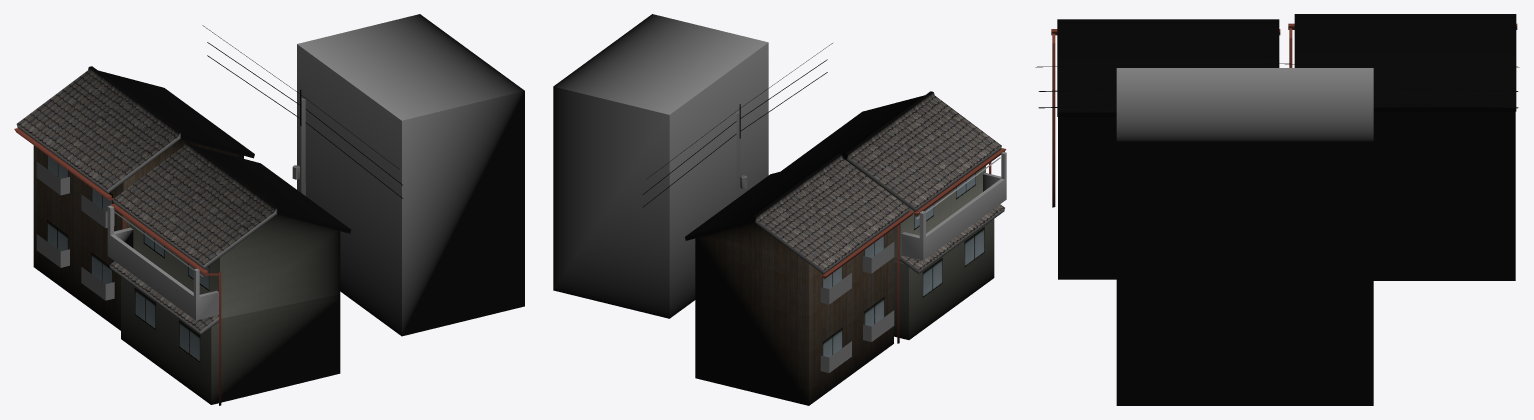
The model's file is AMB_HOUSE01_50.glb.
3 renders of one model, left to right at view 1: azimuth 30°, elevation 25°; view 2: azimuth 150°, elevation 25°; view 3: azimuth 270°, elevation 25°, orthographic. The views are drawn at different scales.
Visible parts, largest first — view 1: obj91, obj81, ie_l2, obj90; view 2: obj91, ie_l2, obj81, obj90; view 3: obj91, ie_l2, obj81, obj90.
Part boxes in pixels (box(x1,y1,x2,y2)): obj91: box(297, 14, 524, 336); obj81: box(107, 141, 351, 405); ie_l2: box(14, 66, 254, 330); obj90: box(202, 25, 402, 198); obj91: box(553, 14, 768, 318); ie_l2: box(685, 154, 913, 405); obj81: box(781, 91, 1006, 339); obj90: box(642, 43, 832, 207); obj91: box(1116, 68, 1373, 405); ie_l2: box(1288, 14, 1517, 280); obj81: box(1051, 19, 1280, 279); obj90: box(1035, 57, 1519, 108).
Size of the model in its own units: 51.79 by 30.34 by 50.4.
11 materials, 11 textured.
